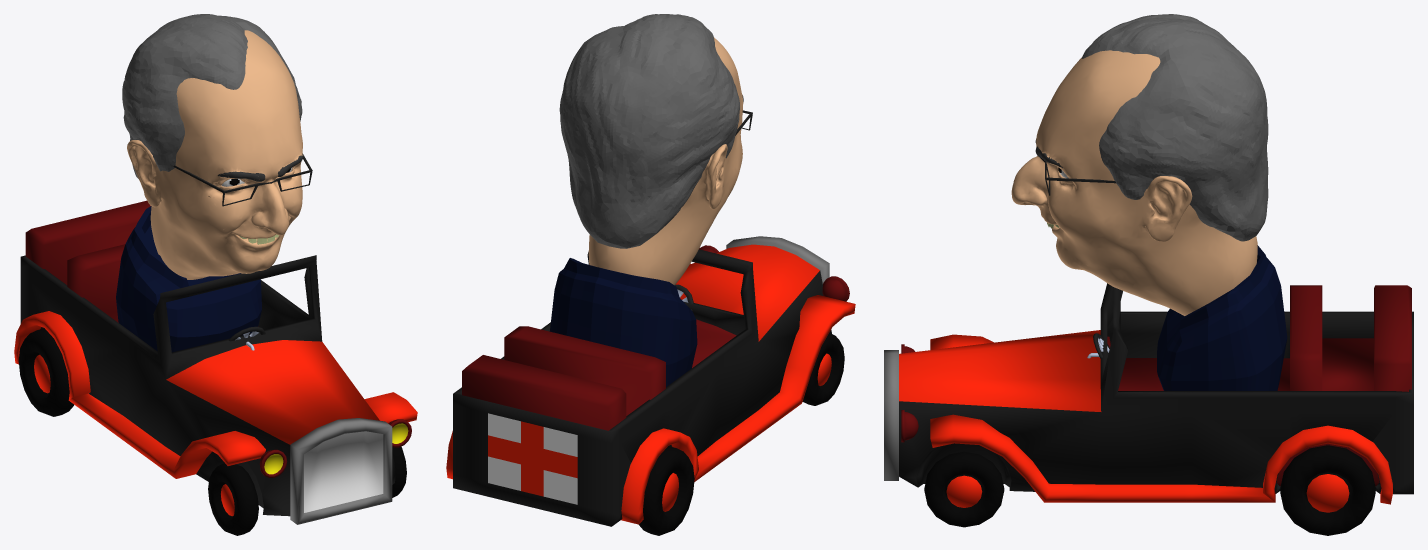
File: CUNHA.fbx
The picture shows the model from 3 angles, left to right: view 1: azimuth 30°, elevation 25°; view 2: azimuth 150°, elevation 25°; view 3: azimuth 270°, elevation 25°; orthographic projection. The views are drawn at different scales.
Parts seen in each view (by area): view 1: Cube.006, cunhateste5, Sphere.001, Cube.005, Cube.004; view 2: Cube.006, Sphere.001, Cube.005, cunhateste5; view 3: Cube.006, cunhateste5, Sphere.001, Cube.005.
Part boxes in pixels (box(x1,y1,x2,y2)): Cube.006: box(14, 200, 417, 535); cunhateste5: box(127, 30, 303, 279); Sphere.001: box(122, 14, 302, 178); Cube.005: box(116, 206, 261, 352); Cube.004: box(173, 153, 312, 206); Cube.006: box(446, 236, 855, 535); Sphere.001: box(559, 14, 739, 248); Cube.005: box(549, 258, 697, 386); cunhateste5: box(588, 37, 743, 285); Cube.006: box(884, 283, 1413, 535); cunhateste5: box(1011, 50, 1257, 315); Sphere.001: box(1081, 14, 1268, 241); Cube.005: box(1157, 245, 1287, 390).
Size of the model in its own units: 290 by 589 by 615.
